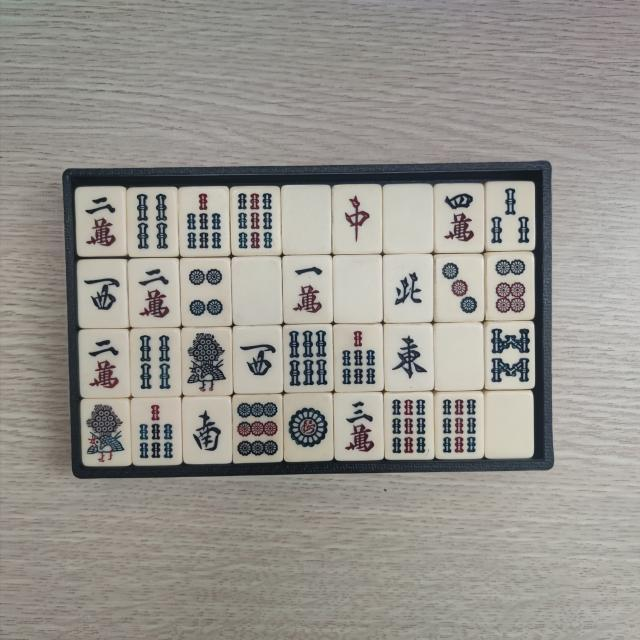hdr: (338, 189, 376, 249)
hdw: (287, 190, 329, 250), (387, 189, 429, 248), (237, 262, 278, 321), (339, 260, 379, 320), (440, 328, 480, 386), (492, 398, 530, 454)
hwe: (389, 326, 432, 386)
hwn: (389, 259, 429, 318)
hws: (188, 402, 228, 459)
hww: (82, 266, 124, 325), (237, 332, 279, 389)
sb1: (186, 330, 230, 393), (86, 402, 128, 464)
sb3: (488, 185, 530, 247)
sb4: (137, 330, 178, 392), (132, 190, 173, 252)
sb6: (288, 328, 330, 388)
sb7: (183, 190, 226, 253), (136, 401, 178, 462), (338, 327, 378, 388)
sb8: (490, 325, 532, 387)
sb9: (236, 189, 278, 252), (391, 397, 432, 458), (438, 397, 479, 457)
sc1: (289, 262, 329, 320)
sc2: (80, 190, 122, 252), (84, 332, 125, 392), (134, 261, 174, 322)
sc3: (338, 397, 378, 457)
sc4: (438, 188, 478, 248)
sd1: (288, 398, 332, 458)
sd3: (440, 258, 480, 318)
sd4: (184, 262, 226, 322)
sd6: (490, 256, 530, 316)
sd9: (234, 400, 278, 460)
